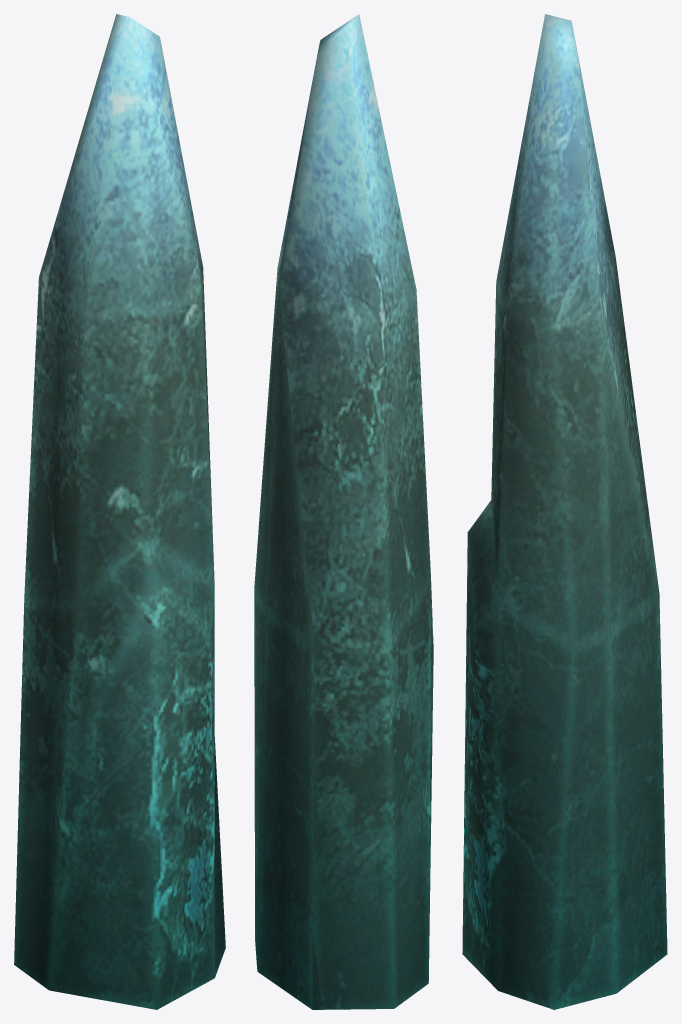
The model's file is crystal_big02_var5.obj.
3 views of the same model, side by side, from view 1: azimuth 30°, elevation 25°; view 2: azimuth 150°, elevation 25°; view 3: azimuth 270°, elevation 25° (orthographic).
Parts seen in each view (by area): view 1: crystal_big02_var5; view 2: crystal_big02_var5; view 3: crystal_big02_var5.
Boxes of the visible parts, left/top/right/bottom form: crystal_big02_var5: left=14, top=14, right=225, bottom=1009; crystal_big02_var5: left=254, top=14, right=433, bottom=1009; crystal_big02_var5: left=462, top=14, right=667, bottom=1009.
Size of the model in its own units: 33.72 by 175 by 34.38.
Materials: 1 (1 with a texture image).
